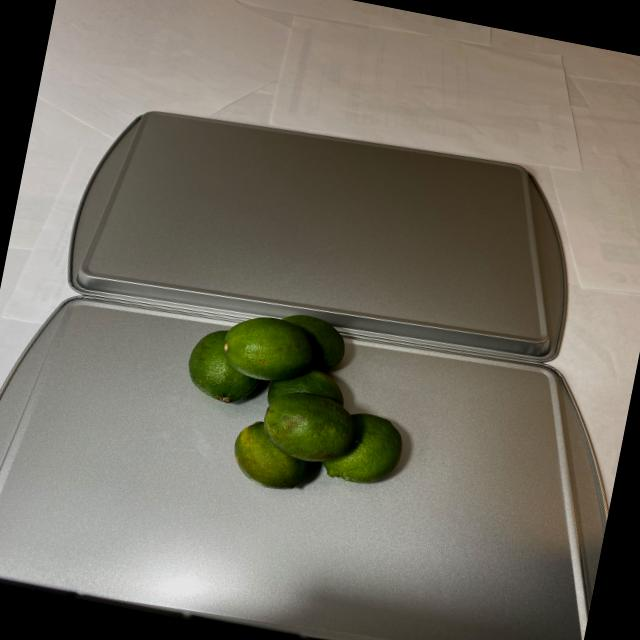lemon: (153, 289, 430, 519)
